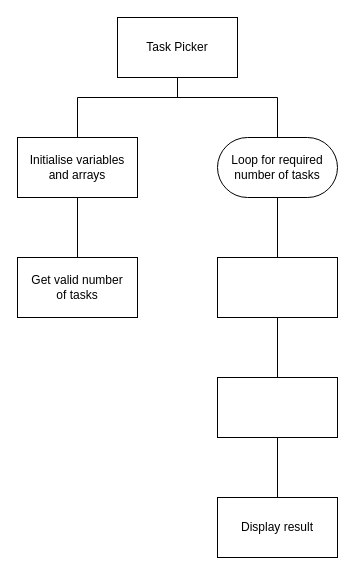
The diagram is 355 pixels wide and 575 high, and some of its shapes have lost their labels. The shapes that lost their labels are listed below. From the top down, each one's centre as x and y in pixels, then its label:
At [277,287]: "Pick a name".
At [277,407]: "Pick a task".
